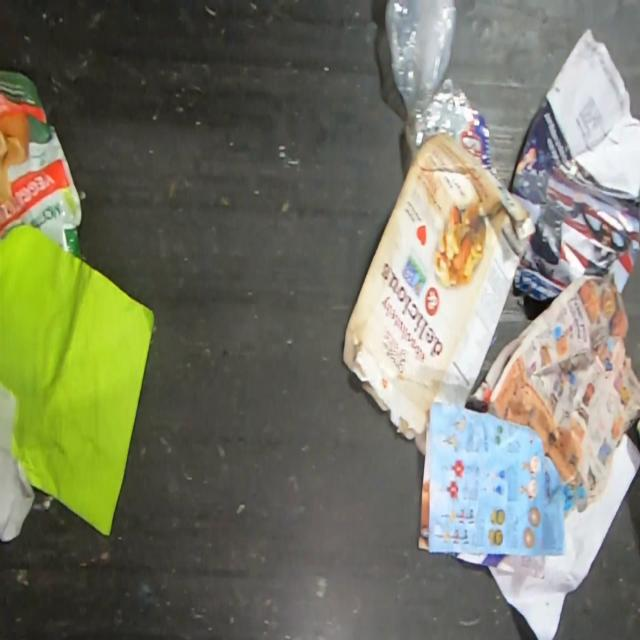cardboard: (342, 131, 536, 440)
rigid_plastic: (385, 0, 474, 160)
soft_plastic: (0, 70, 85, 263)
